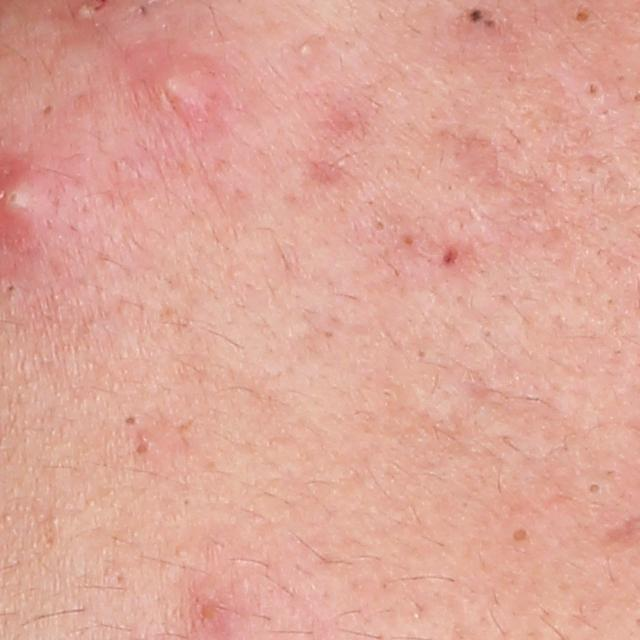atrophic_scar: (304, 157, 347, 190)
comedo: (128, 435, 157, 462), (572, 8, 589, 23), (586, 81, 600, 99), (484, 19, 497, 32)
pustule: (148, 57, 211, 110), (291, 38, 321, 65)
